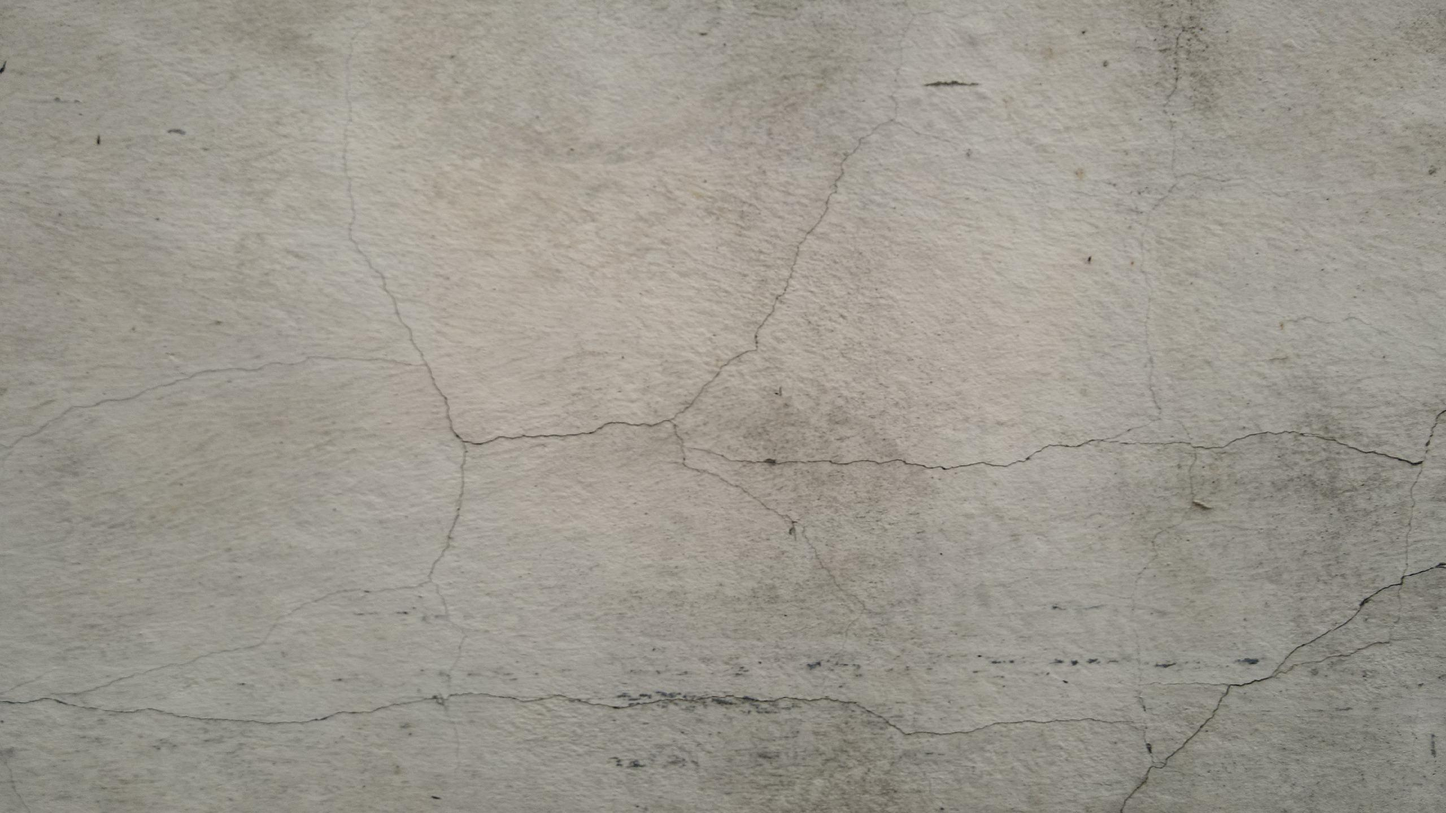crack: (1108, 558, 1439, 809), (2, 685, 1133, 751), (694, 411, 1441, 484)
